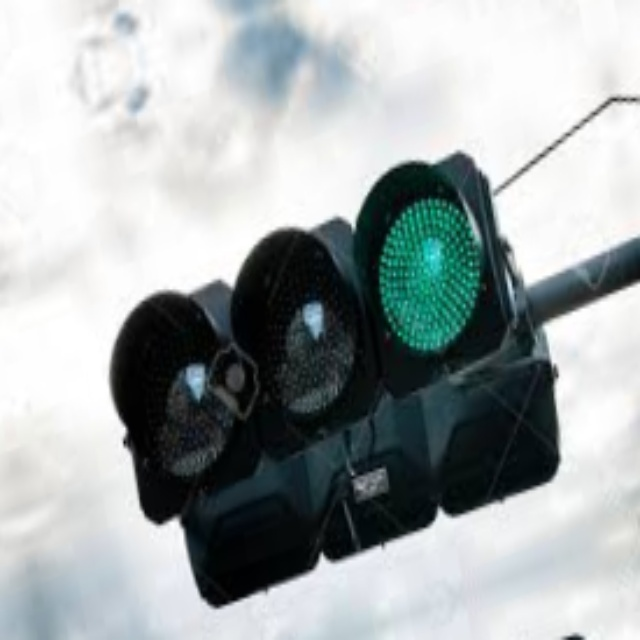green_light: (365, 180, 497, 366)
